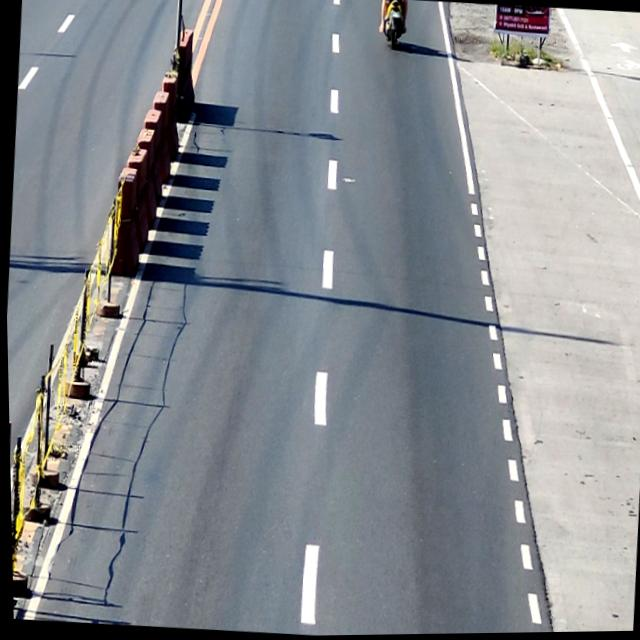License-Plate: (389, 10, 400, 19)
Motorcycle: (380, 0, 407, 52)
